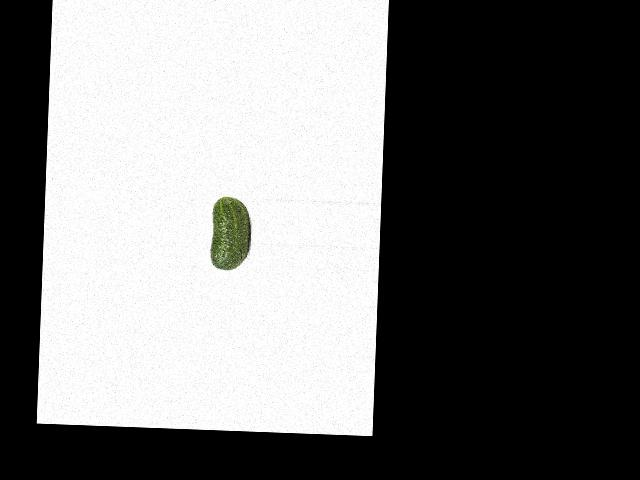cucumber: (210, 196, 252, 271)
